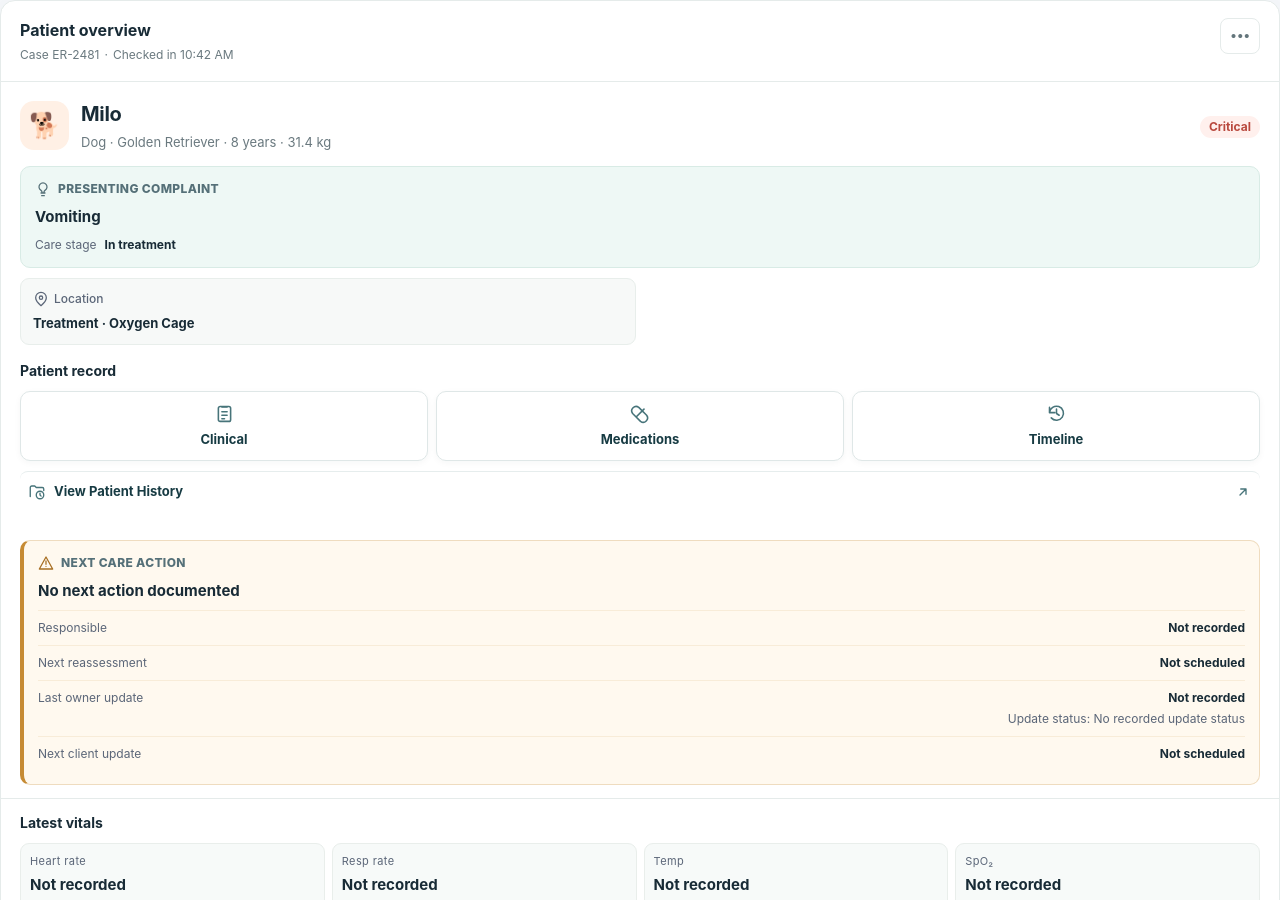
Scenario: PatientOverviewPanel › shows empty timeline and task messages in their review views
Click the button "Timeline". click: (1056, 426)
box: x1=852 y1=391 x2=1260 y2=461
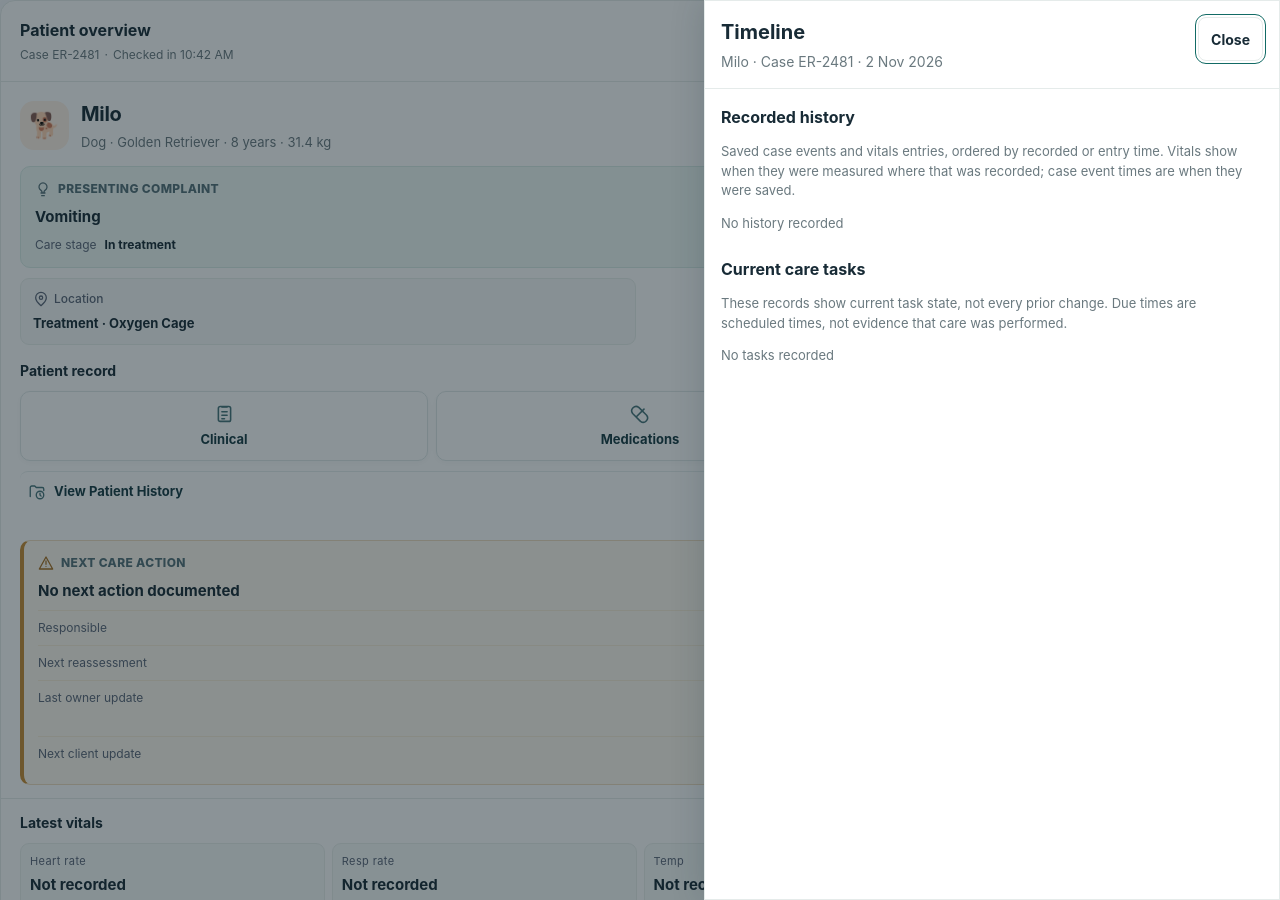
Expected: the text "No history recorded" is shown, x1=721 y1=214 x2=844 y2=230
Click the button with aria-label "Close Timeline". click: (1231, 39)
box: x1=1198 y1=17 x2=1263 y2=61
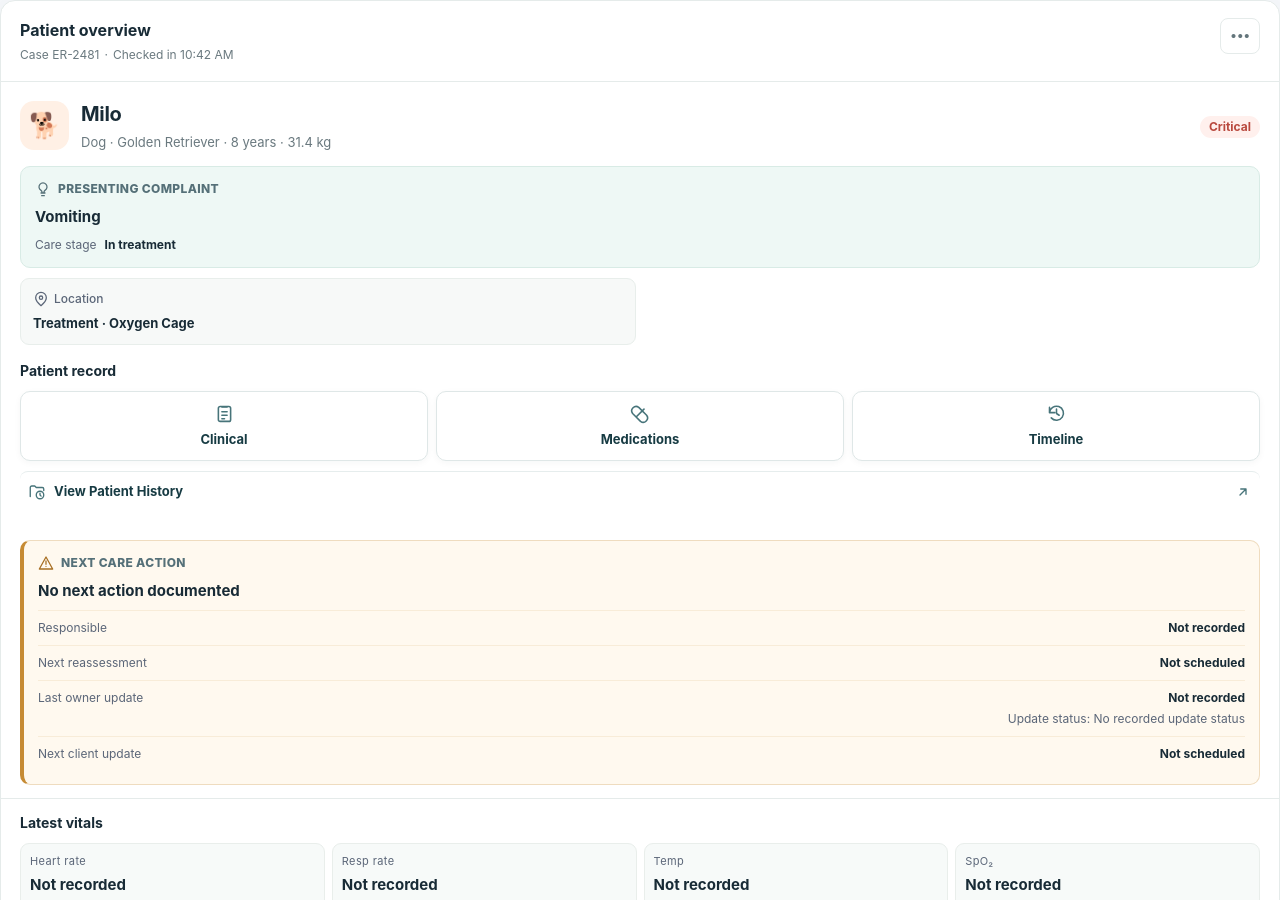
Click the button named "More actions". click: (1240, 36)
box: x1=1220 y1=18 x2=1260 y2=54
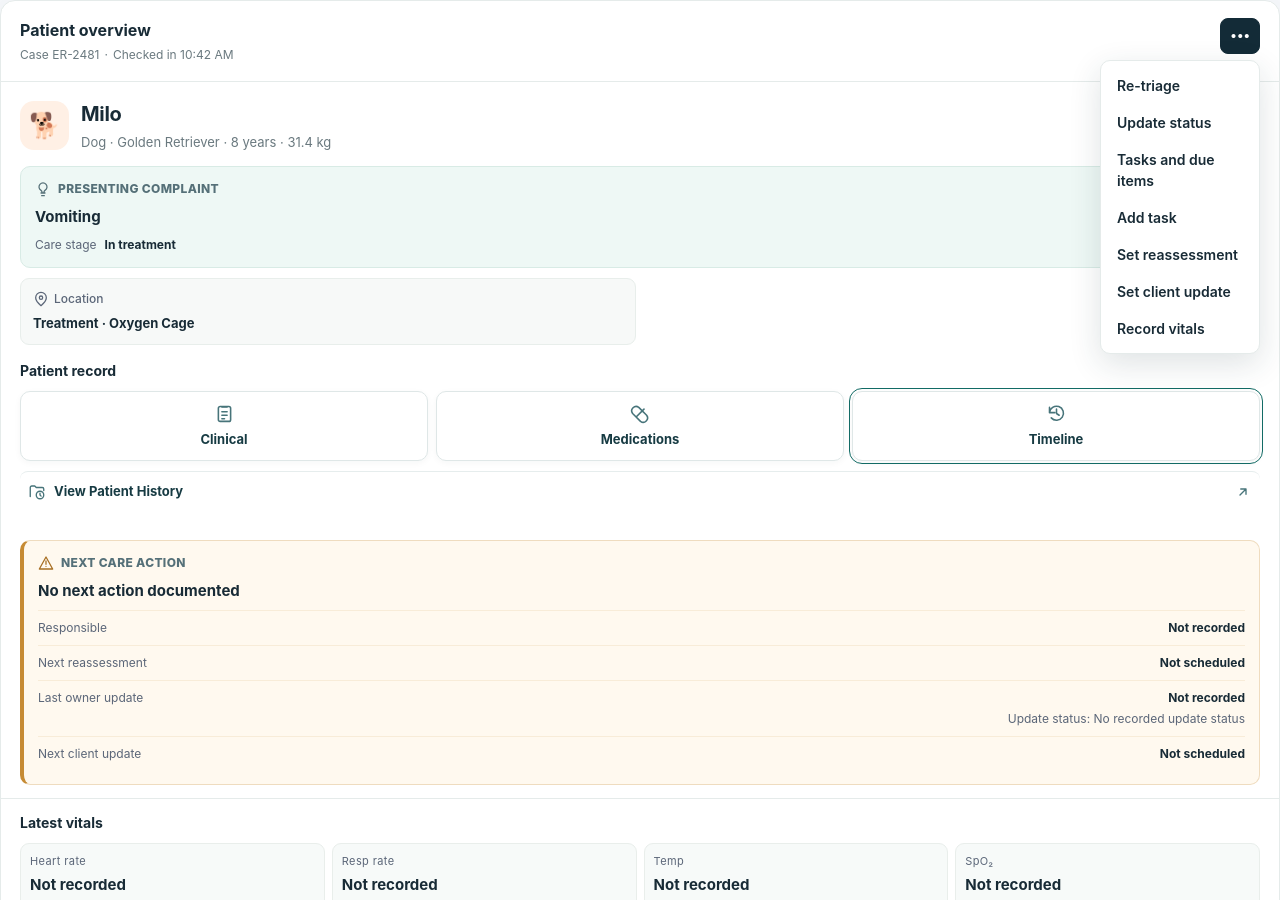
Click the button "Tasks and due items". click: (1180, 170)
box: x1=1107 y1=140 x2=1253 y2=198
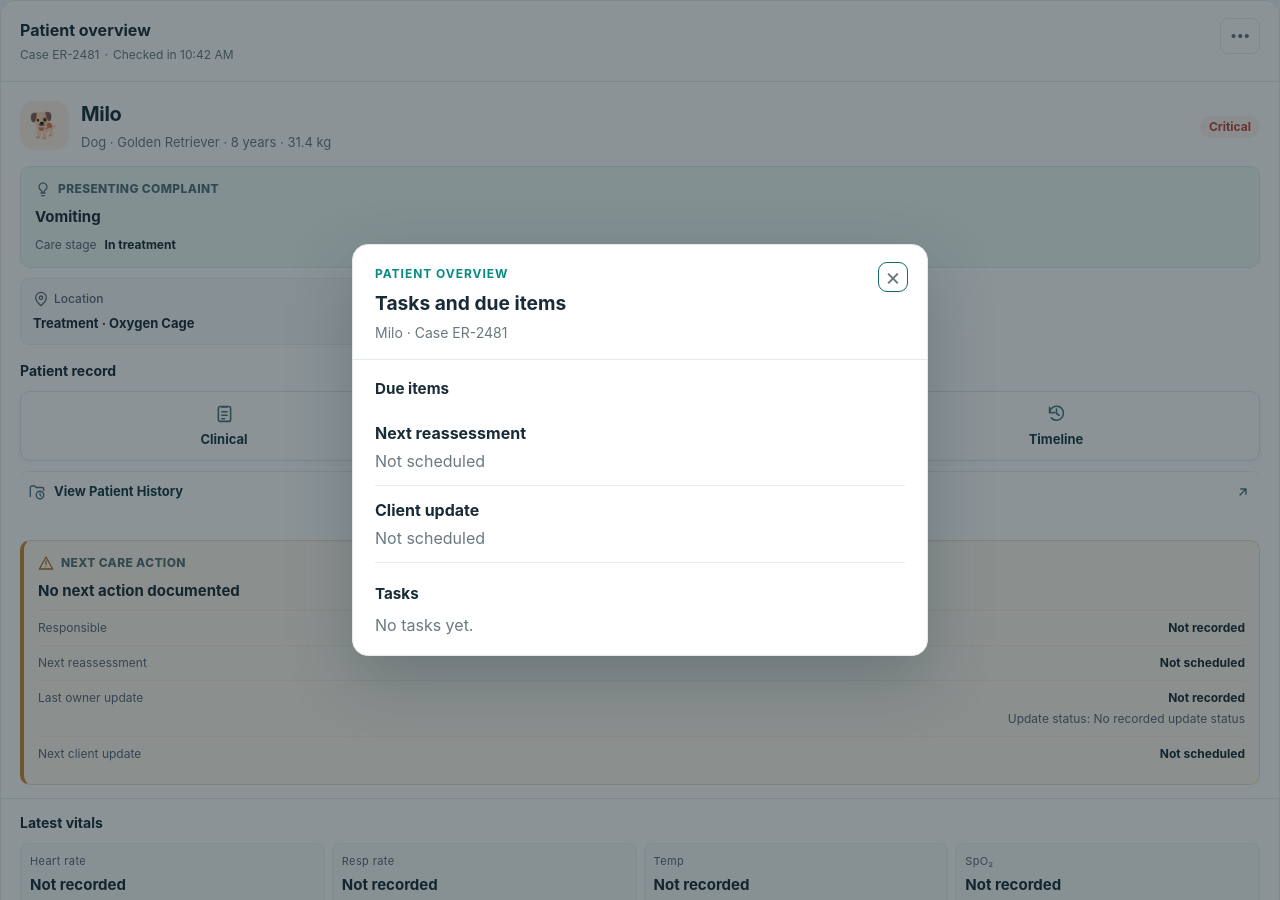
Expected: the text "No tasks yet." is shown, x1=375 y1=615 x2=474 y2=635
